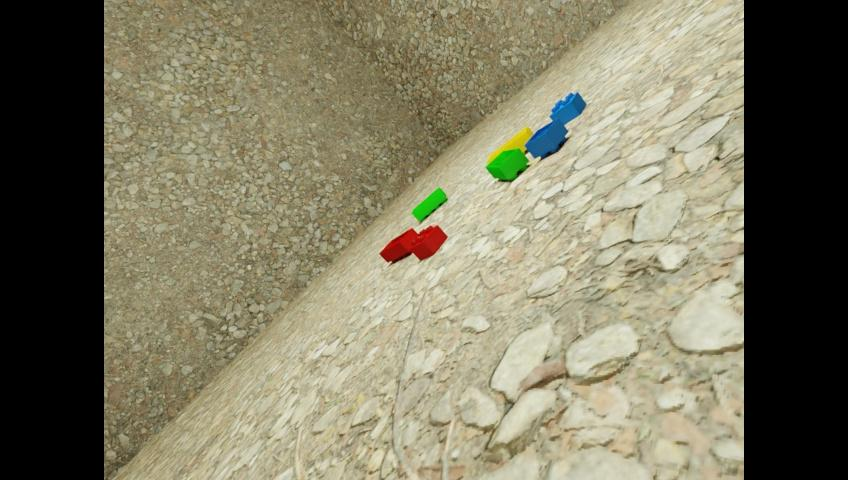2x2_blue: (524, 117, 567, 158), (549, 91, 585, 124)
2x2_red: (409, 224, 447, 260)
4x2_green: (484, 147, 528, 180), (411, 186, 446, 221)
4x2_red: (379, 227, 418, 262)
4x2_yellow: (486, 125, 533, 164)
